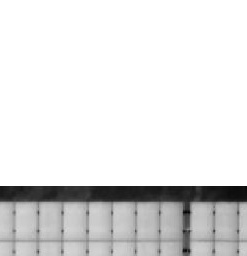solar: (11, 200, 41, 241), (35, 200, 65, 241), (59, 199, 89, 240), (84, 200, 114, 241), (109, 201, 139, 242), (133, 201, 163, 242), (156, 201, 186, 242), (186, 201, 216, 242), (211, 201, 241, 242)
